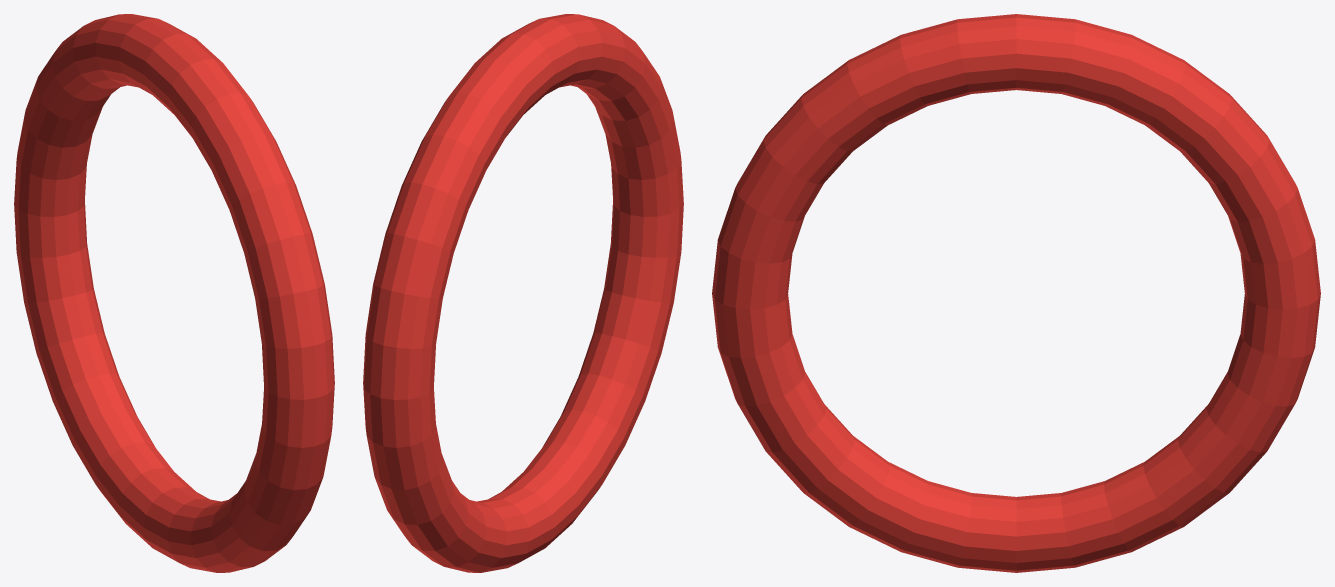
Rendered from gizmo_rotate.glb.
3 views of the same model, side by side, from view 1: azimuth 30°, elevation 25°; view 2: azimuth 150°, elevation 25°; view 3: azimuth 270°, elevation 25° (orthographic). The views are drawn at different scales.
Parts seen in each view (by area): view 1: 0.076; view 2: 0.076; view 3: 0.076.
Boxes of the visible parts, x1=… form: 0.076: x1=14, y1=14, x2=334, y2=572; 0.076: x1=363, y1=14, x2=683, y2=572; 0.076: x1=712, y1=14, x2=1320, y2=572.
Size of the model in its own units: 0.05 by 0.4 by 0.4.
